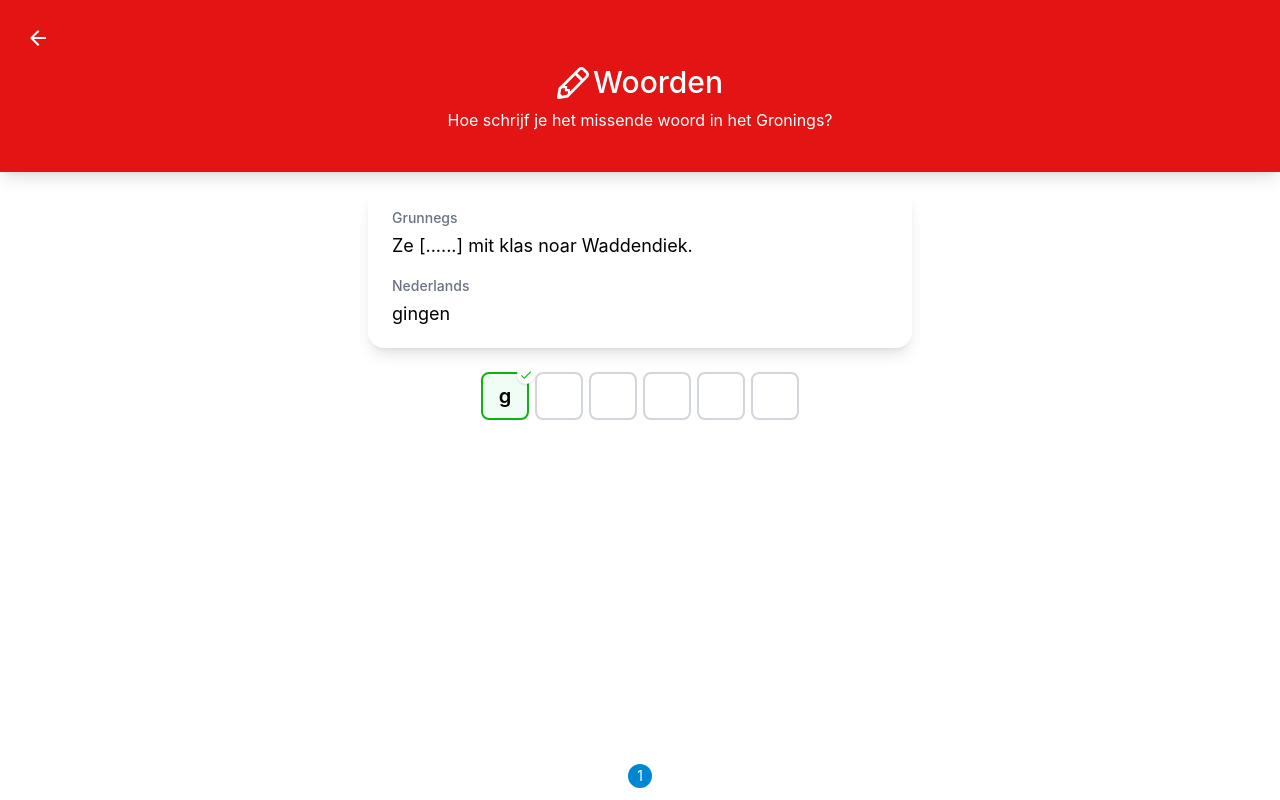
submitting an answer › shows "Dat klopt!" and the word in read-only boxes on a correct submit
Type "i" into the field named "Letter 2 van 6". click: (559, 396)
box: [537,374,581,418]
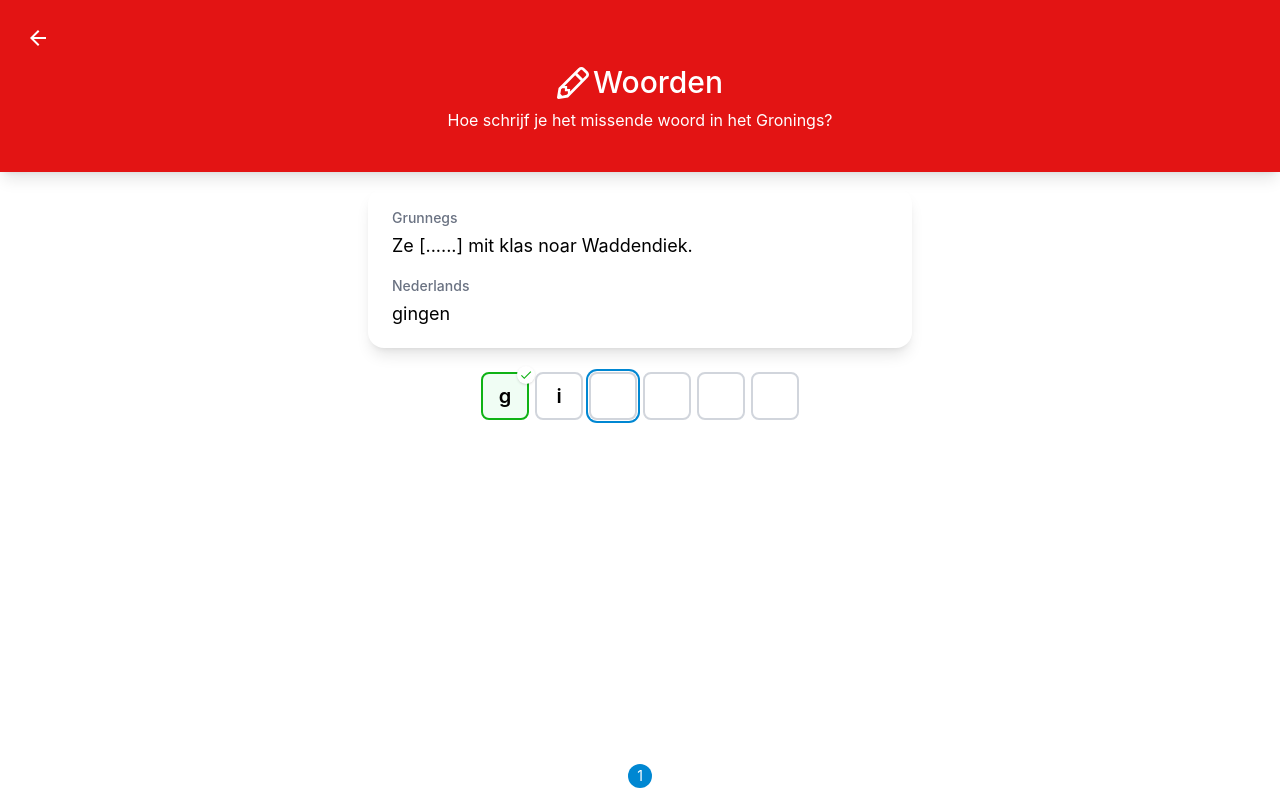
Type "n" into the field named "Letter 3 van 6". click: (613, 396)
box: [591,374,635,418]
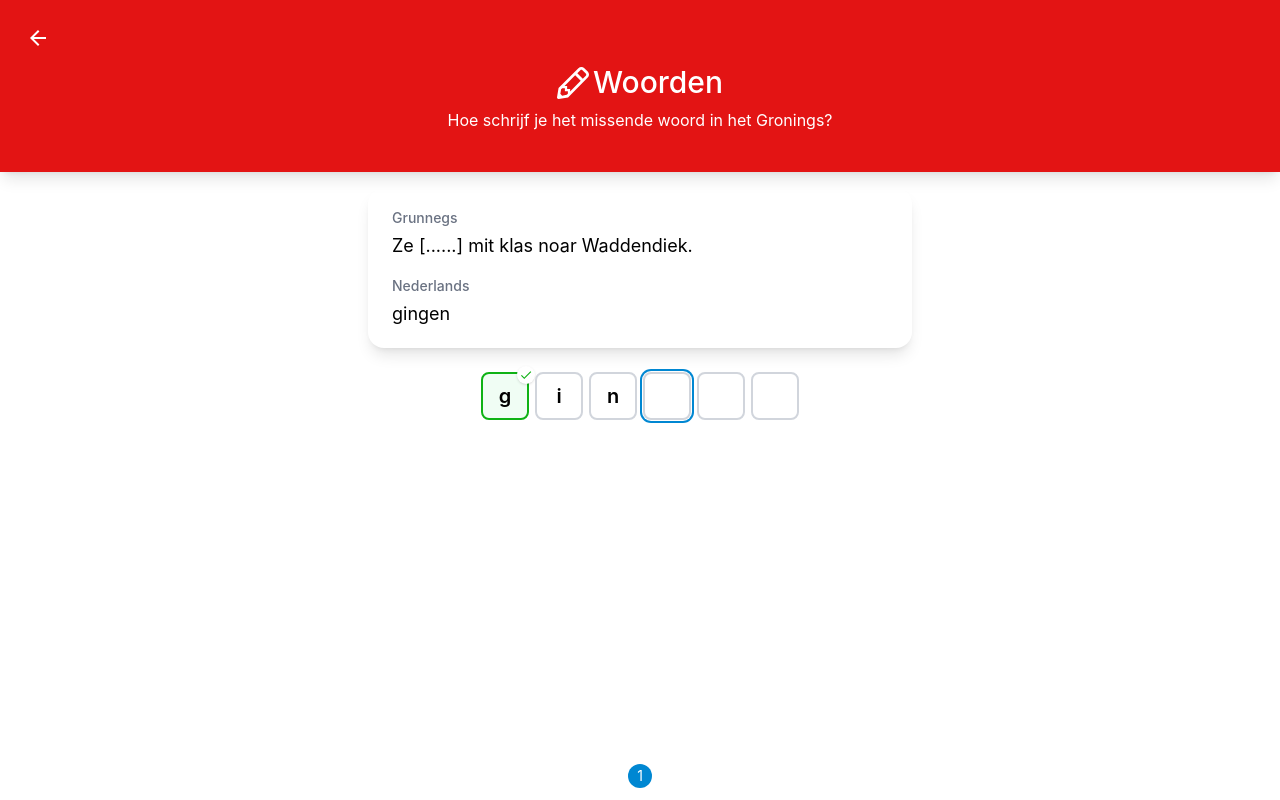
Type "g" into the field named "Letter 4 van 6". click: (667, 396)
box: [645,374,689,418]
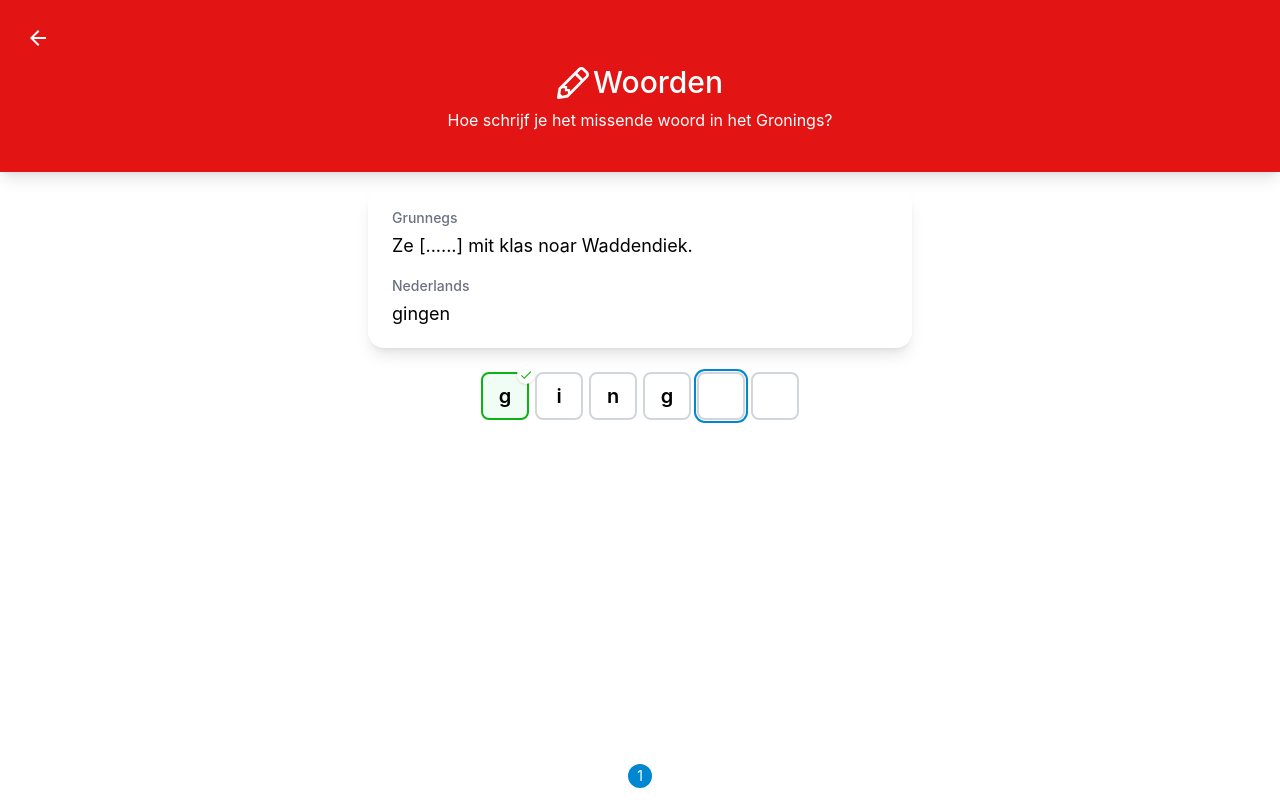
Type "e" into the field named "Letter 5 van 6". click: (721, 396)
box: [699,374,743,418]
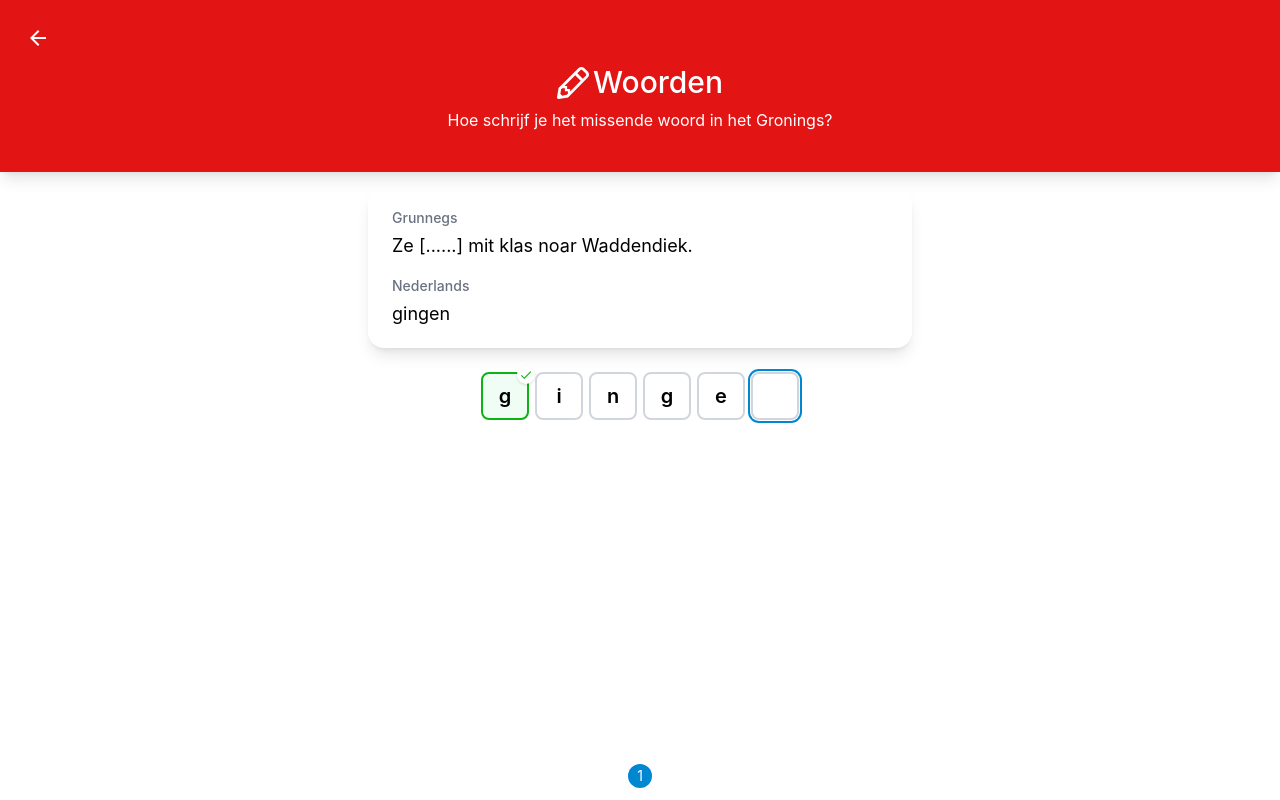
Type "n" into the field named "Letter 6 van 6". click: (775, 396)
box: [753,374,797,418]
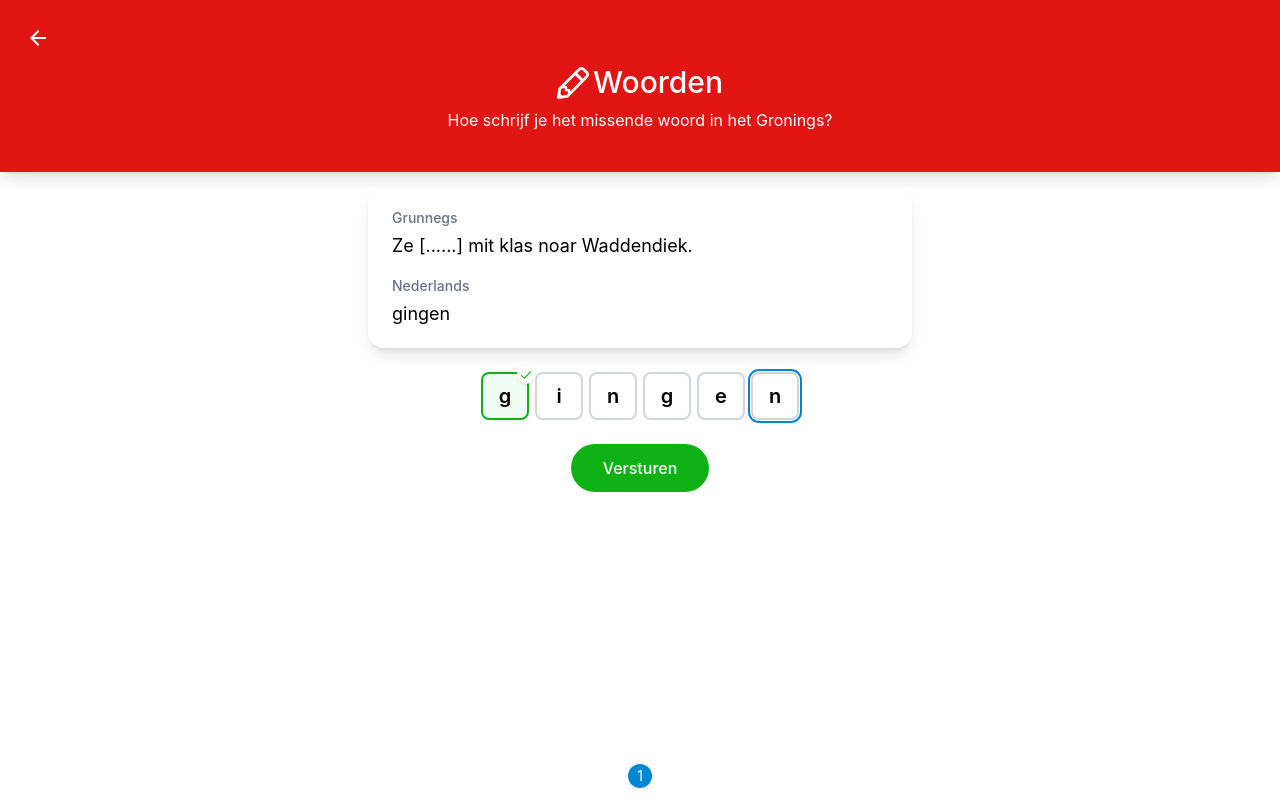
Click the button "Versturen". click: (640, 468)
box: [571,444,709,492]
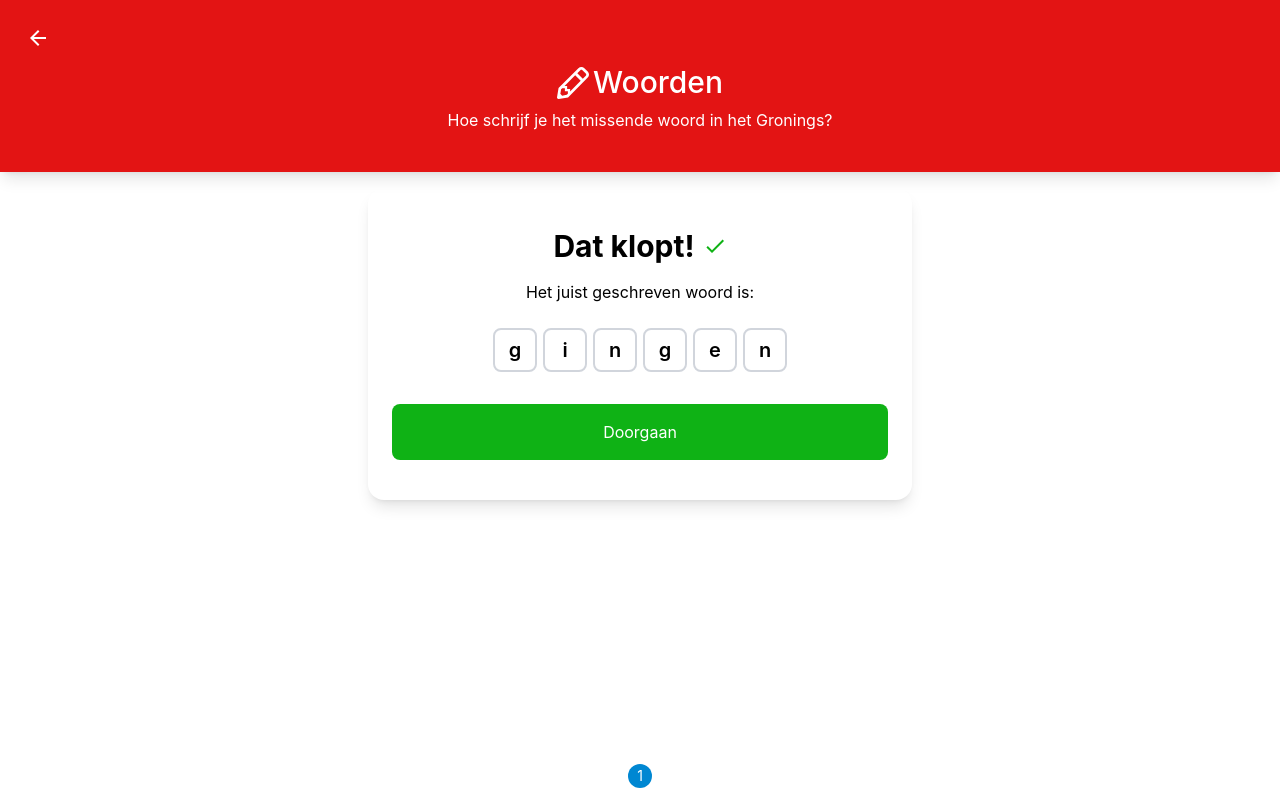
Now the text "Dat klopt!" is shown, box [553,228,726,264]
Now the text "Het juist geschreven woord is:" is shown, box [526,282,754,302]
